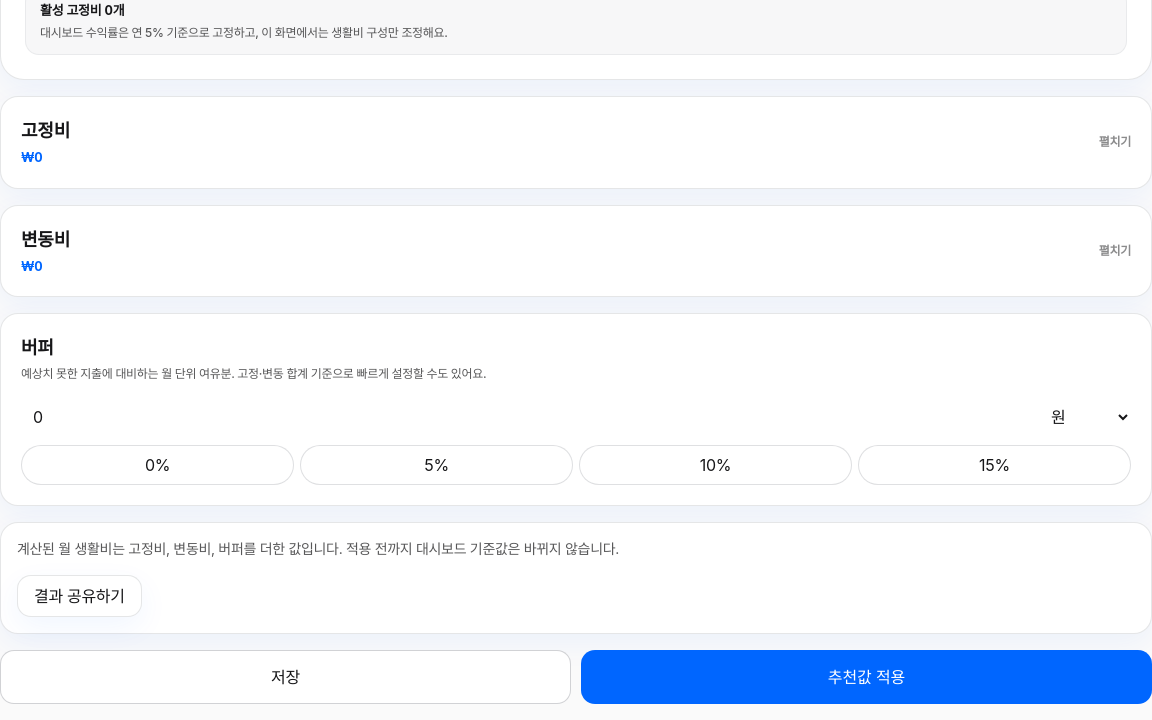
Test: FixedCostSimulator › shows copy failure feedback instead of throwing when clipboard is blocked
This screenshot has width=1152, height=720.
(page scrolled)
Click the button "결과 공유하기" at (79, 596), box [17,575,142,617]
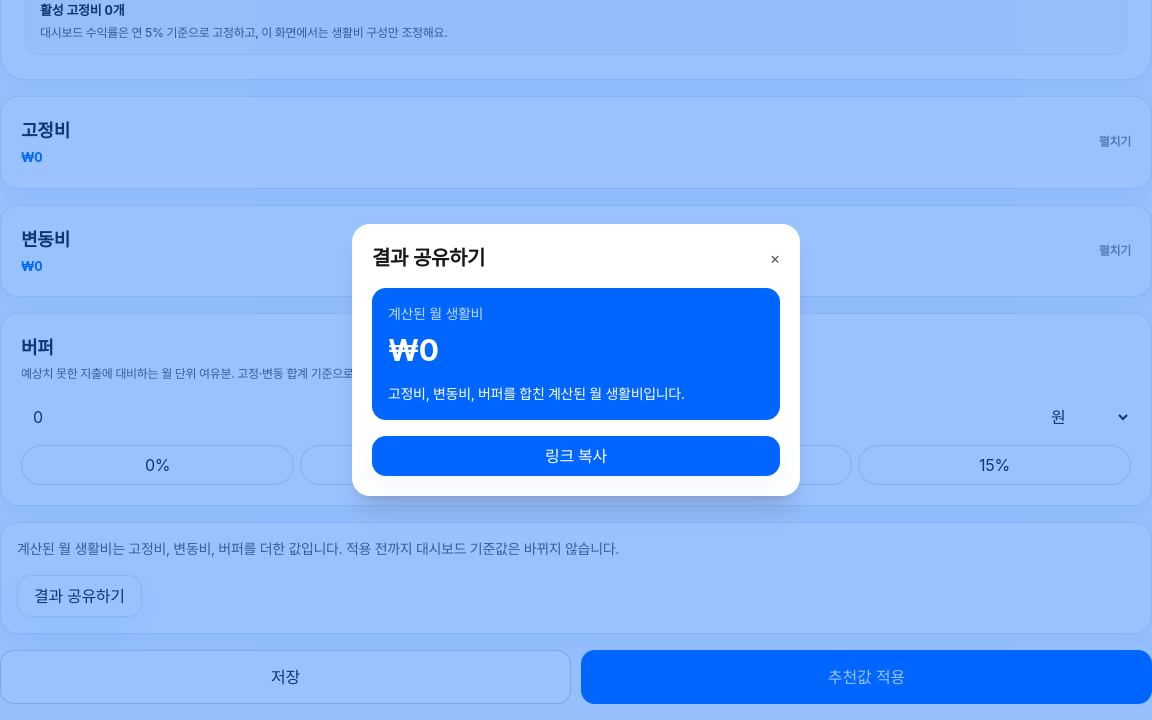
Click the button "링크 복사" at (576, 456), box [372,436,780,476]
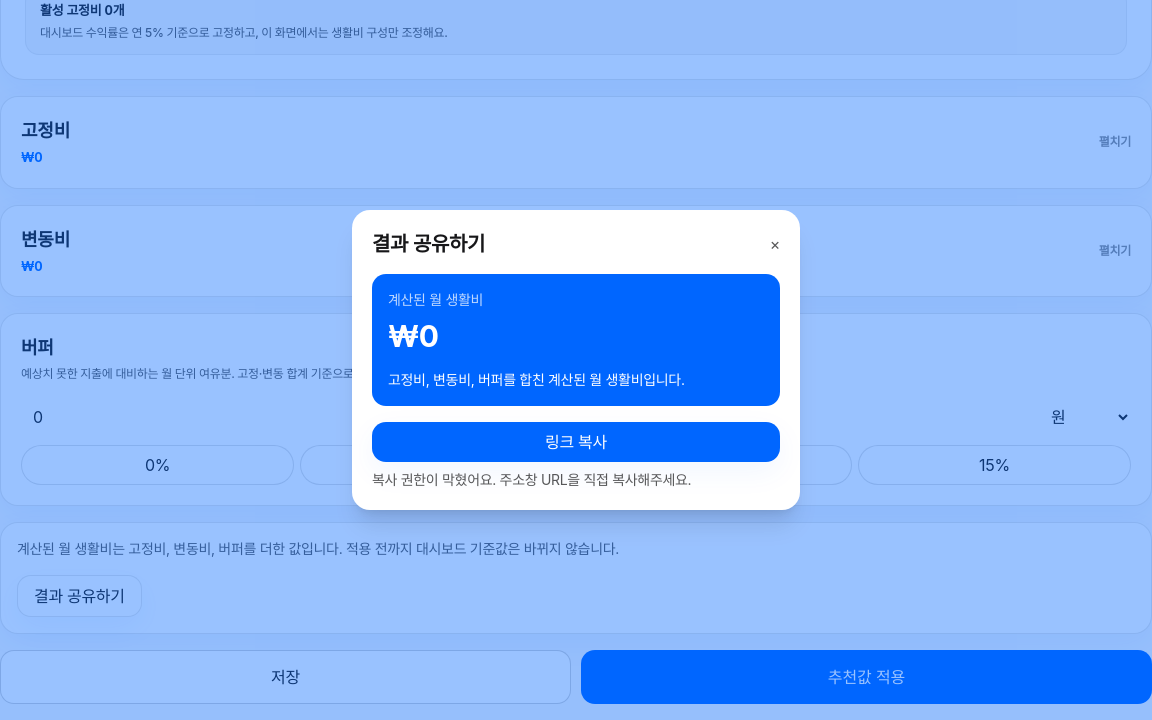
Now the text "복사 권한이 막혔어요. 주소창 URL을 직접 복사해주세요." is shown, box [372,471,691,488]
